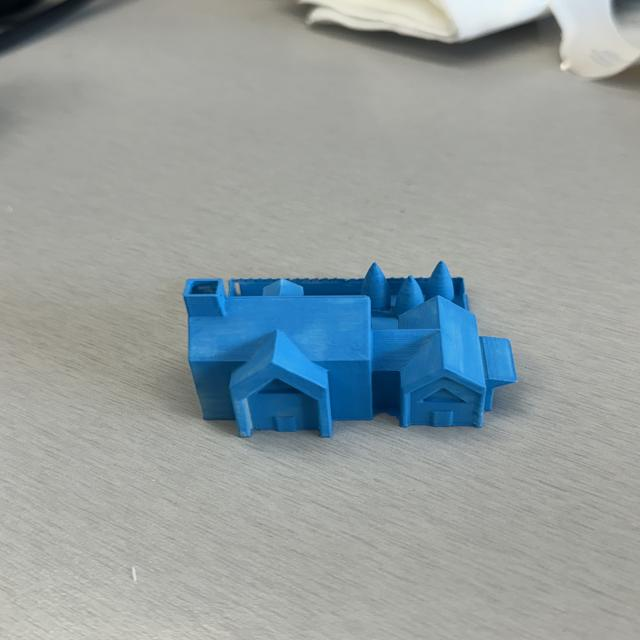house: (182, 258, 516, 437)
